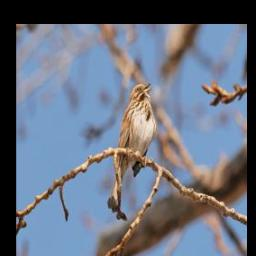Sparrow: (106, 79, 158, 214)
